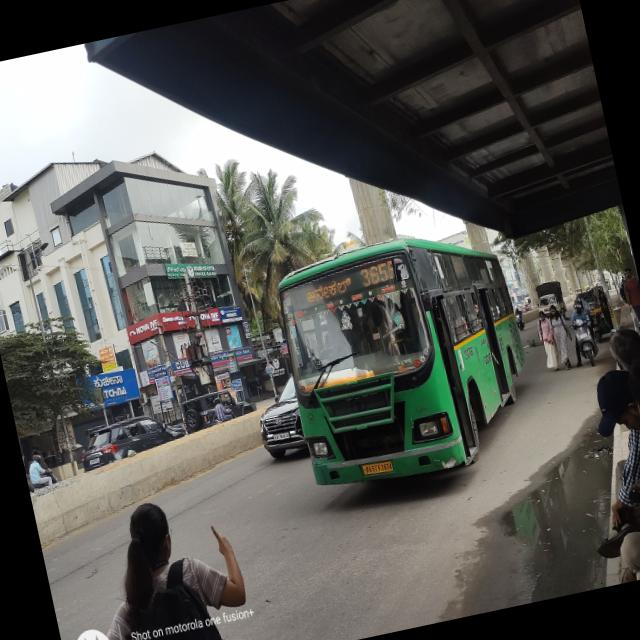bus: (270, 222, 552, 502)
display: (282, 252, 409, 310)
dnumber: (359, 260, 400, 292)
